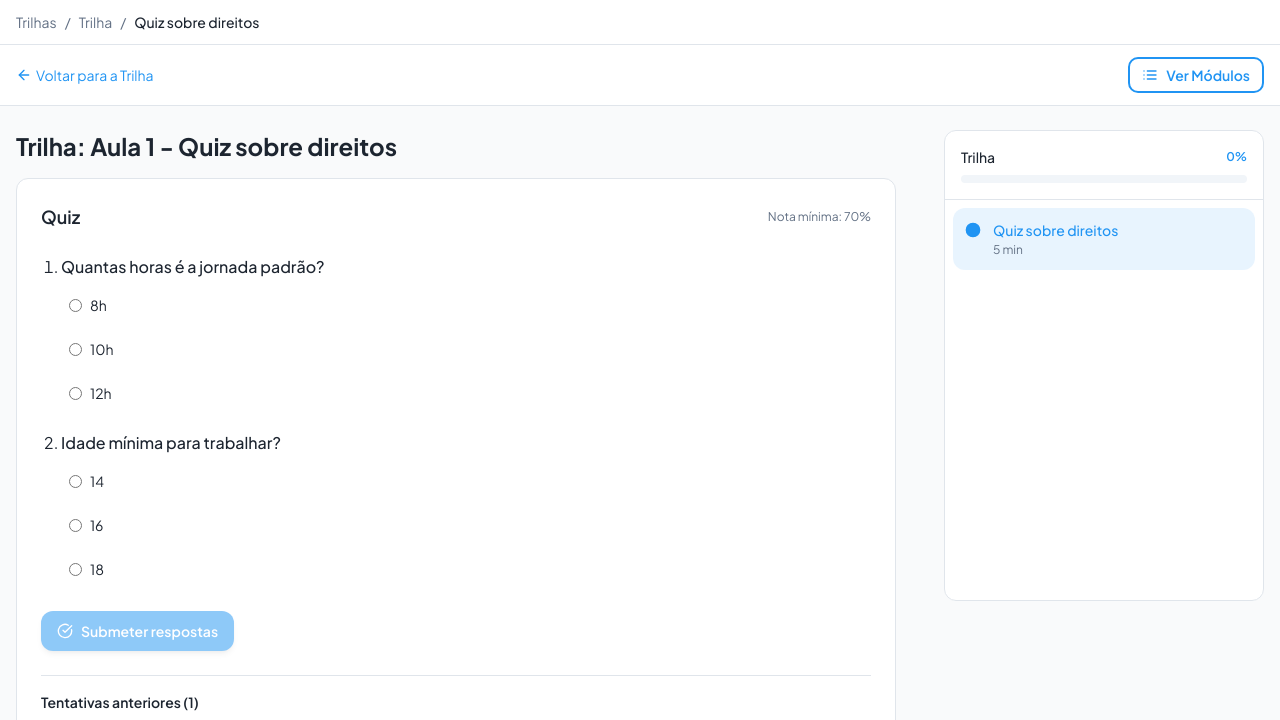
Test case: ModuleViewerPage — quiz viewer › NÃO re-incrementa progresso se já tinha passado antes
Check: the heading "Tentativas anteriores (1)" is shown, box [41,693,199,711]
Click the radio button labelled "8h" at (76, 305), box [69,298,82,312]
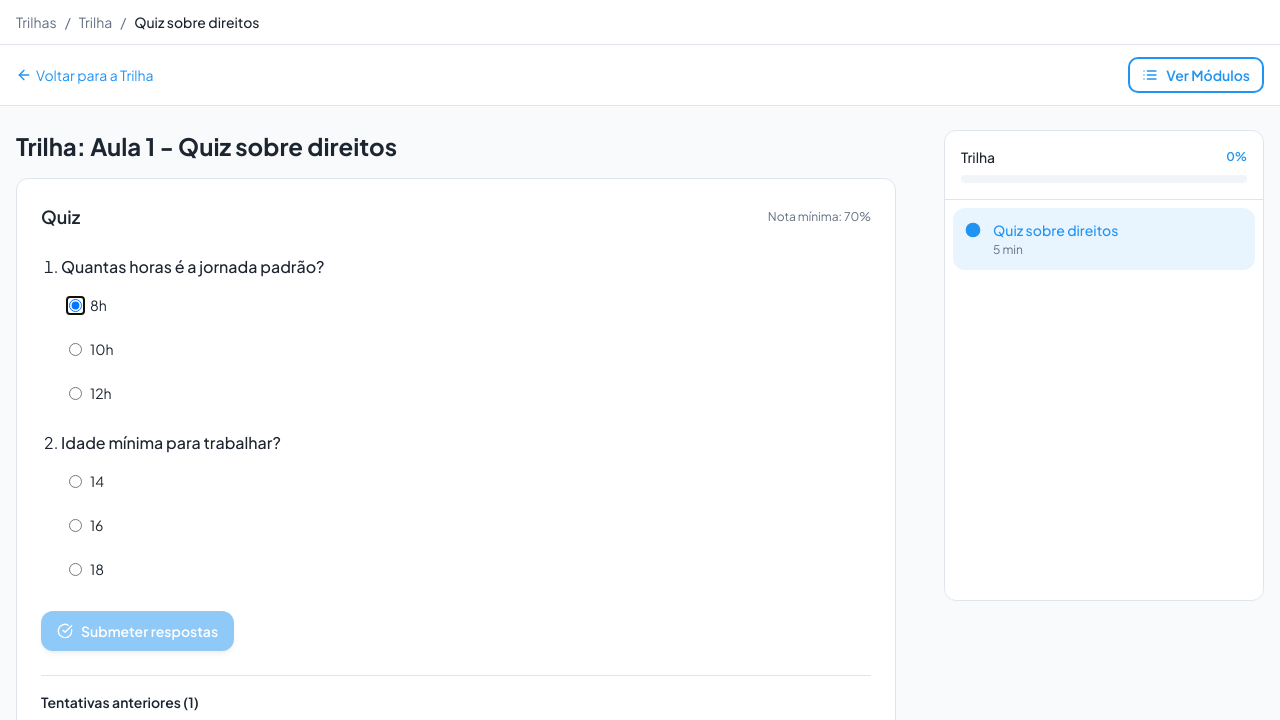
Click the radio button labelled "16" at (76, 525), box [69,518,82,532]
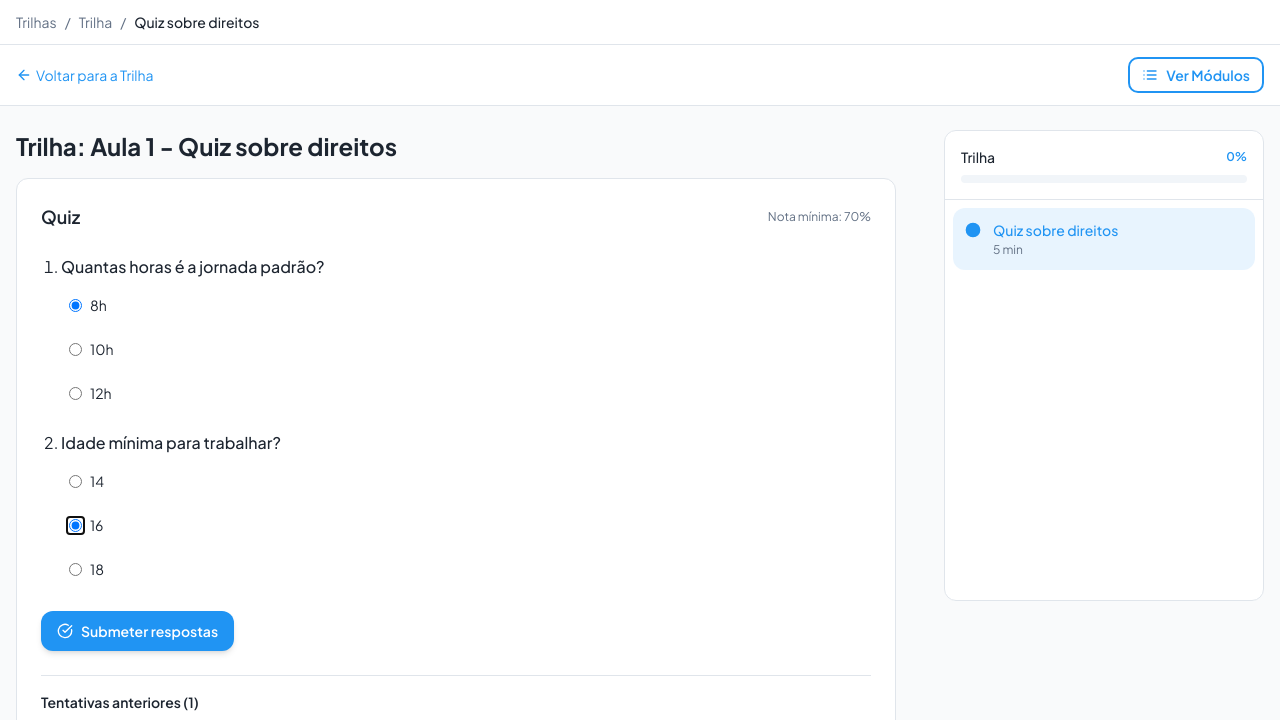
Click the button "Submeter respostas" at (138, 631), box [41,611,234,651]
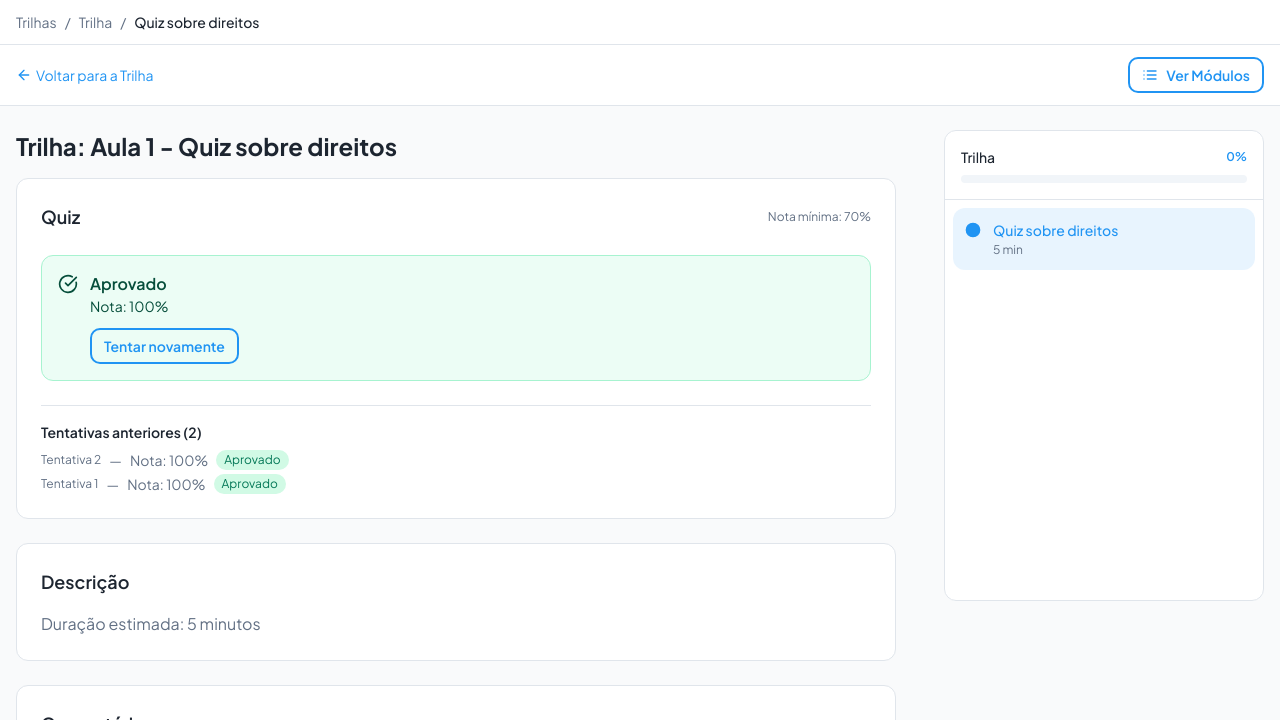
Check: the message shows "Aprovado", box [90,273,167,294]
